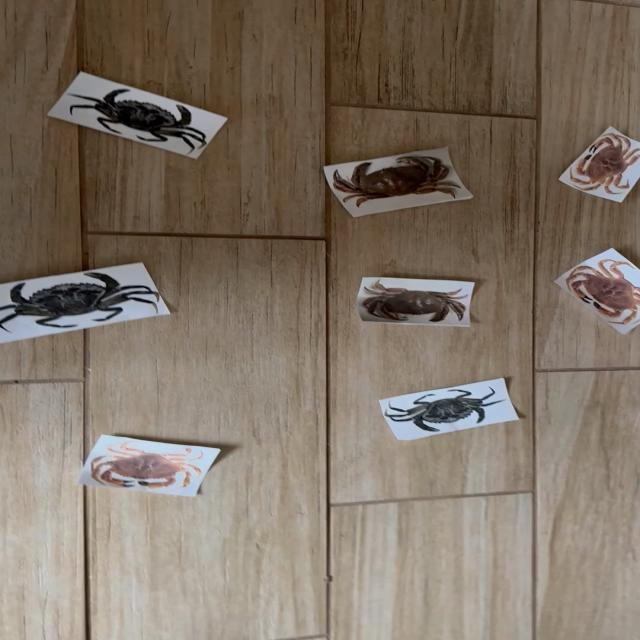egc: (0, 272, 159, 331), (70, 89, 206, 151), (385, 387, 510, 432)
